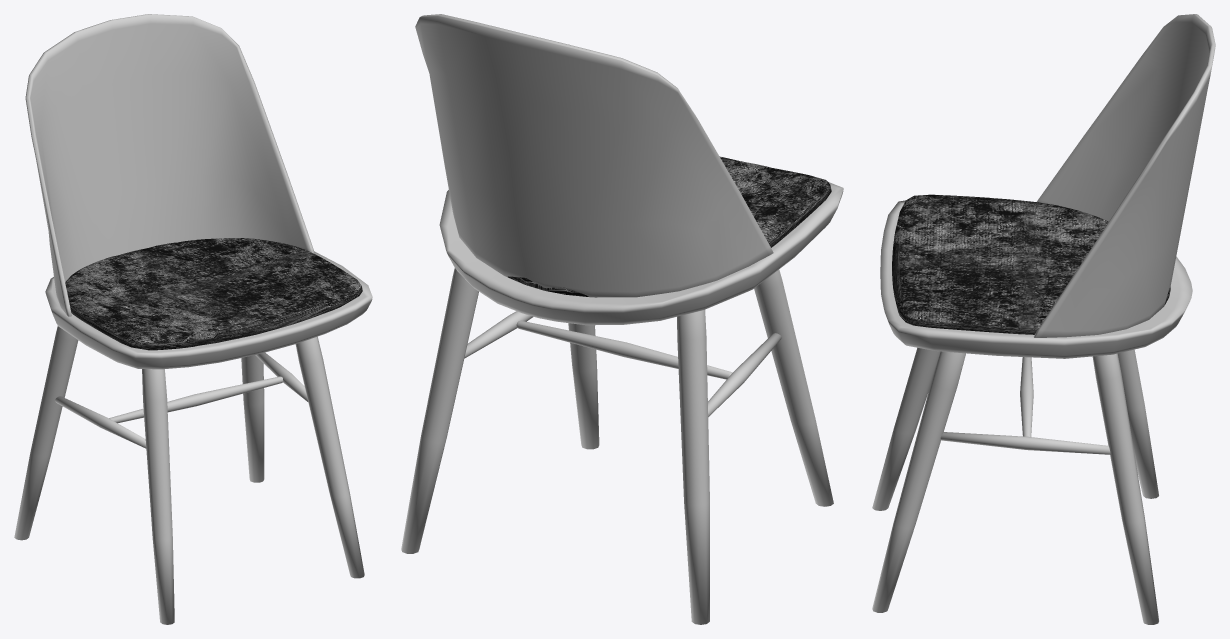
The model's file is chair.fbx.
The picture shows the model from 3 angles, left to right: view 1: azimuth 30°, elevation 25°; view 2: azimuth 150°, elevation 25°; view 3: azimuth 270°, elevation 25°; orthographic projection. The views are drawn at different scales.
Visible parts, largest first — view 1: Body, Pillow, Legs; view 2: Body, Legs, Pillow; view 3: Body, Pillow, Legs.
Part boxes in pixels (<box>): Body: <box>25,14,372,369</box>; Pillow: <box>65,238,362,350</box>; Legs: <box>14,326,364,624</box>; Body: <box>415,14,843,325</box>; Legs: <box>401,268,833,624</box>; Pillow: <box>507,156,831,296</box>; Body: <box>880,14,1215,358</box>; Pillow: <box>892,194,1170,334</box>; Legs: <box>872,347,1158,624</box>.
Size of the model in its own units: 46.43 by 79.37 by 48.06.
